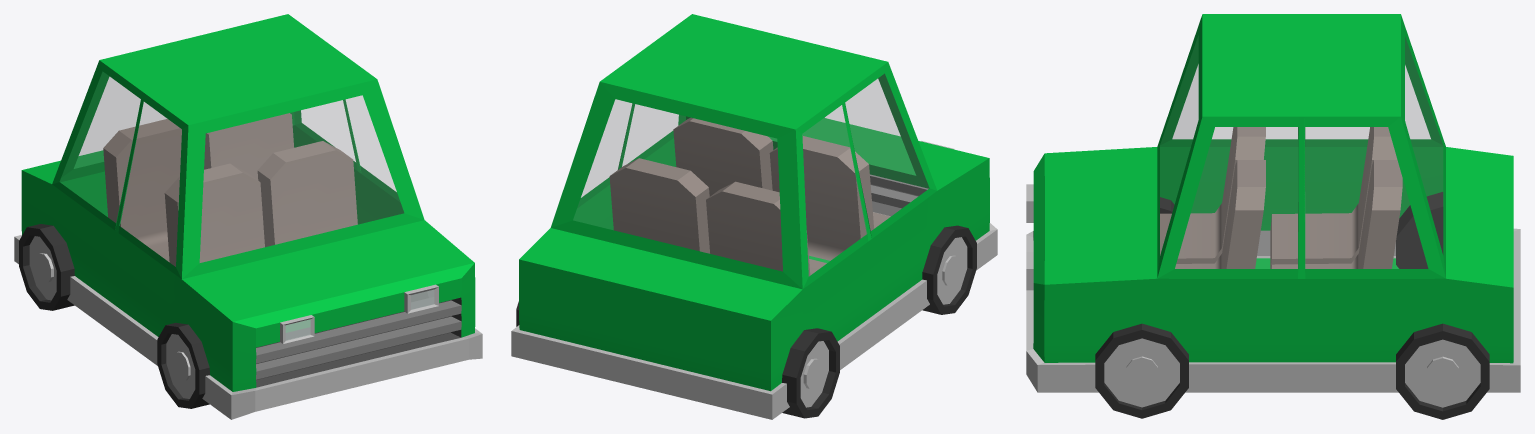
Rendered from New Car.fbx.
3 renders of one model, left to right at view 1: azimuth 30°, elevation 25°; view 2: azimuth 150°, elevation 25°; view 3: azimuth 270°, elevation 25°, orthographic. The views are drawn at different scales.
Visible parts, largest first — view 1: pCube6; view 2: pCube6; view 3: pCube6.
Boxes of the visible parts, bbox=[...] form: pCube6: bbox=[14, 14, 482, 419]; pCube6: bbox=[511, 14, 997, 419]; pCube6: bbox=[1026, 14, 1520, 419].
Size of the model in its own units: 4.91 by 4.39 by 6.99.
